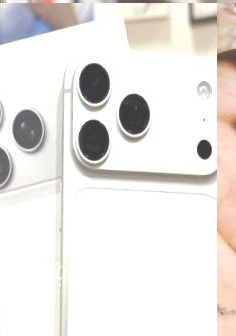scratch: (219, 36, 236, 67)
